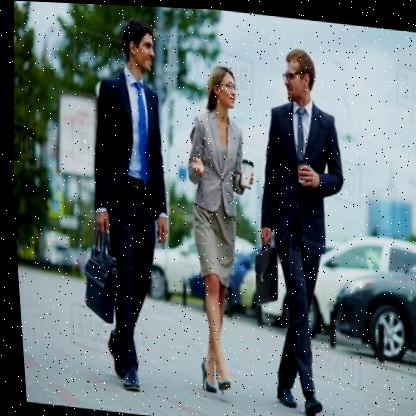person: (52, 10, 202, 403), (225, 37, 376, 416), (154, 53, 292, 407)
